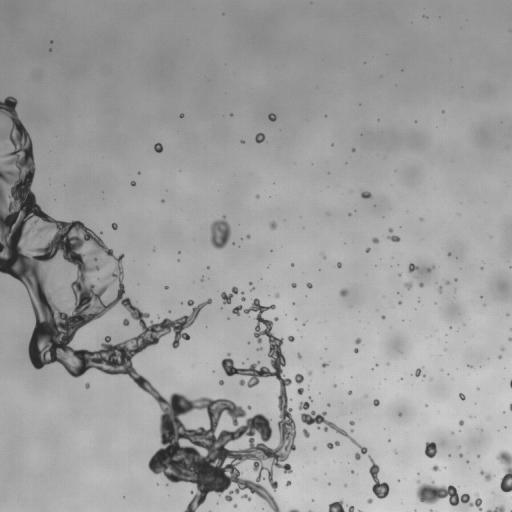droplet: (210, 215, 231, 249), (424, 441, 437, 458), (480, 469, 495, 482), (407, 262, 419, 273), (254, 132, 265, 143), (261, 122, 272, 133), (28, 182, 39, 193), (377, 229, 388, 240), (379, 236, 390, 247), (279, 342, 290, 353), (130, 354, 141, 365), (261, 357, 272, 368), (134, 364, 145, 375), (280, 366, 291, 377), (85, 367, 96, 378), (268, 376, 279, 387), (285, 383, 296, 394), (183, 389, 194, 400), (309, 402, 320, 413), (152, 406, 163, 417), (290, 409, 301, 420), (151, 417, 162, 428), (294, 419, 305, 430), (151, 427, 162, 438), (326, 429, 337, 440), (293, 433, 304, 444), (266, 437, 277, 448), (152, 439, 163, 450), (471, 459, 482, 470), (272, 467, 283, 478), (154, 471, 165, 482), (435, 477, 446, 488), (477, 480, 488, 491), (408, 483, 419, 494), (438, 496, 449, 507), (294, 373, 304, 385), (359, 190, 372, 199), (154, 142, 163, 153), (298, 401, 309, 410), (387, 235, 400, 242), (360, 503, 371, 511), (403, 281, 412, 290), (403, 271, 412, 280), (297, 282, 306, 291), (230, 296, 239, 305), (243, 299, 252, 308), (183, 306, 192, 315), (168, 312, 177, 321), (26, 321, 35, 330), (270, 326, 279, 335), (166, 330, 175, 339), (21, 352, 30, 361), (216, 367, 225, 376), (245, 409, 254, 418), (268, 420, 277, 429), (147, 447, 156, 456), (376, 473, 385, 482), (421, 476, 430, 485), (260, 478, 269, 487), (206, 490, 215, 499), (410, 493, 419, 502), (421, 501, 430, 510), (339, 288, 348, 296), (302, 428, 309, 438), (505, 390, 511, 401), (194, 505, 205, 511), (452, 505, 463, 511), (268, 113, 276, 121), (269, 221, 277, 229), (431, 464, 440, 471), (122, 318, 129, 326), (0, 270, 5, 281), (187, 299, 194, 306), (287, 335, 294, 342), (14, 104, 21, 111), (21, 120, 28, 127), (31, 147, 38, 154), (31, 175, 38, 182), (362, 185, 369, 192), (34, 197, 41, 204), (40, 205, 47, 212), (65, 216, 72, 223), (225, 216, 232, 223), (275, 219, 282, 226), (204, 231, 211, 238), (227, 234, 234, 241), (224, 240, 231, 247), (105, 241, 112, 248), (368, 241, 375, 248), (207, 243, 214, 250), (112, 249, 119, 256), (411, 281, 418, 288), (224, 287, 231, 294), (250, 310, 257, 317), (261, 311, 268, 318), (261, 334, 268, 341), (178, 337, 185, 344), (145, 344, 152, 351), (52, 360, 59, 367), (233, 361, 240, 368), (243, 361, 250, 368), (42, 363, 49, 370), (142, 372, 149, 379), (122, 373, 129, 380), (232, 373, 239, 380), (243, 374, 250, 381), (298, 381, 305, 388), (131, 382, 138, 389), (176, 388, 183, 395), (163, 393, 170, 400), (300, 394, 307, 401), (151, 399, 158, 406), (304, 407, 311, 414), (263, 411, 270, 418), (335, 420, 342, 427), (343, 424, 350, 431), (295, 429, 302, 436), (335, 433, 342, 440), (493, 448, 500, 455), (360, 453, 367, 460), (430, 456, 437, 463), (145, 468, 152, 475), (260, 469, 267, 476), (284, 472, 291, 479), (494, 477, 501, 484), (168, 480, 175, 487), (277, 480, 284, 487), (190, 482, 197, 489), (243, 487, 250, 494), (456, 488, 463, 495), (368, 491, 375, 498), (250, 492, 257, 499), (468, 495, 475, 502), (308, 502, 315, 509), (111, 222, 117, 230), (459, 393, 465, 401), (373, 398, 379, 406), (506, 446, 511, 455), (469, 506, 478, 511), (372, 237, 379, 243), (306, 282, 312, 289), (355, 337, 361, 344), (297, 387, 303, 394), (285, 480, 291, 487), (320, 253, 326, 259), (353, 347, 359, 353), (458, 419, 464, 425), (0, 93, 4, 102), (297, 352, 302, 359), (366, 498, 373, 503), (438, 286, 442, 294), (130, 180, 135, 186), (336, 262, 341, 268), (274, 292, 279, 298), (307, 370, 312, 376), (218, 380, 224, 385), (349, 420, 355, 425), (85, 382, 89, 389), (266, 507, 273, 511), (179, 113, 184, 118), (388, 228, 393, 233), (365, 247, 370, 252), (291, 283, 296, 288), (418, 282, 423, 287), (347, 390, 352, 395), (246, 405, 251, 410), (49, 43, 54, 48), (264, 134, 269, 139), (6, 139, 11, 144), (161, 143, 166, 148), (9, 146, 14, 151), (161, 148, 166, 153), (9, 154, 14, 159), (370, 191, 375, 196), (356, 193, 361, 198), (364, 197, 369, 202), (217, 215, 222, 220), (72, 216, 77, 221), (267, 217, 272, 222), (265, 224, 270, 229), (275, 224, 280, 229), (94, 230, 99, 235), (391, 230, 396, 235), (388, 231, 393, 236), (99, 234, 104, 239), (376, 234, 381, 239), (386, 238, 391, 243), (392, 240, 397, 245), (450, 252, 455, 257), (176, 253, 181, 258), (120, 257, 125, 262), (404, 262, 409, 267), (426, 262, 431, 267), (403, 265, 408, 270), (430, 268, 435, 273), (412, 269, 417, 274), (448, 277, 453, 282), (292, 278, 297, 283), (121, 279, 126, 284), (440, 281, 445, 286), (340, 284, 345, 289), (336, 286, 341, 291), (441, 286, 446, 291), (270, 290, 275, 295), (335, 291, 340, 296), (121, 293, 126, 298), (339, 295, 344, 300), (395, 295, 400, 300), (202, 296, 207, 301), (218, 297, 223, 302), (480, 297, 485, 302), (130, 300, 135, 305), (259, 300, 264, 305), (182, 301, 187, 306), (192, 302, 197, 307), (204, 303, 209, 308), (139, 307, 144, 312), (238, 308, 243, 313), (156, 318, 161, 323), (193, 318, 198, 323), (297, 318, 302, 323), (145, 321, 150, 326), (250, 327, 255, 332), (351, 335, 356, 340), (255, 342, 260, 347), (355, 343, 360, 348), (496, 349, 501, 354), (499, 350, 504, 355), (229, 354, 234, 359), (217, 357, 222, 362), (473, 363, 478, 368), (255, 365, 260, 370), (269, 367, 274, 372), (410, 368, 415, 373), (96, 369, 101, 374), (441, 370, 446, 375), (65, 372, 70, 377), (104, 372, 109, 377), (111, 373, 116, 378), (302, 373, 307, 378), (257, 375, 262, 380), (271, 375, 276, 380), (423, 376, 428, 381), (290, 377, 295, 382), (242, 383, 247, 388), (296, 383, 301, 388), (251, 385, 256, 390), (211, 395, 216, 400), (274, 398, 279, 403), (368, 400, 373, 405), (234, 401, 239, 406), (286, 402, 291, 407), (504, 405, 509, 410), (323, 406, 328, 411), (323, 414, 328, 419), (349, 415, 354, 420), (311, 421, 316, 426), (319, 421, 324, 426), (302, 422, 307, 427), (456, 424, 461, 429), (327, 426, 332, 431), (427, 438, 432, 443), (360, 442, 365, 447), (435, 444, 440, 449), (420, 445, 425, 450), (355, 447, 360, 452), (457, 448, 462, 453), (433, 453, 438, 458), (350, 455, 355, 460), (424, 455, 429, 460), (461, 455, 466, 460), (279, 460, 284, 465), (374, 460, 379, 465), (367, 462, 372, 467), (289, 464, 294, 469), (437, 464, 442, 469), (279, 467, 284, 472), (483, 467, 488, 472), (432, 470, 437, 475), (366, 472, 371, 477), (499, 472, 504, 477), (479, 474, 484, 479), (271, 476, 276, 481), (165, 478, 170, 483), (378, 478, 383, 483), (370, 480, 375, 485), (387, 482, 392, 487), (367, 486, 372, 491), (496, 486, 501, 491), (238, 489, 243, 494), (387, 489, 392, 494), (230, 492, 235, 497), (188, 494, 193, 499), (444, 495, 449, 500), (273, 496, 278, 501), (242, 497, 247, 502), (331, 497, 336, 502), (328, 498, 333, 503), (229, 499, 234, 504), (464, 501, 469, 506), (495, 501, 500, 506), (199, 502, 204, 507), (276, 502, 281, 507), (182, 504, 187, 509), (291, 504, 296, 509), (449, 504, 454, 509), (324, 505, 329, 510), (489, 505, 494, 510), (255, 194, 259, 199), (246, 234, 250, 239), (241, 296, 245, 301), (398, 300, 402, 305), (273, 317, 278, 321), (500, 346, 504, 351), (398, 412, 402, 417), (350, 428, 354, 433), (233, 503, 237, 508), (343, 507, 348, 511), (229, 112, 233, 116), (447, 252, 451, 256), (248, 281, 252, 285), (445, 280, 449, 284), (381, 315, 385, 319), (498, 355, 502, 359), (240, 361, 244, 365), (429, 377, 433, 381), (326, 403, 330, 407), (312, 446, 316, 450), (476, 454, 480, 458), (165, 482, 169, 486), (240, 140, 245, 143), (291, 262, 294, 267), (164, 286, 169, 289), (508, 332, 511, 337), (508, 490, 511, 495), (232, 508, 237, 511), (352, 508, 357, 511), (481, 508, 486, 511), (503, 508, 508, 511), (441, 110, 445, 113), (352, 148, 355, 152), (161, 198, 164, 202), (419, 217, 423, 220), (177, 250, 180, 254), (206, 265, 209, 269), (180, 301, 183, 305), (292, 302, 296, 305), (505, 313, 509, 316), (508, 337, 511, 341), (333, 384, 337, 387), (387, 438, 390, 442), (459, 453, 462, 457), (350, 470, 354, 473), (156, 482, 159, 486), (327, 482, 331, 485), (344, 483, 347, 487), (50, 40, 53, 43), (49, 48, 52, 51), (324, 114, 327, 117), (414, 120, 417, 123), (331, 143, 334, 146), (137, 171, 140, 174), (240, 237, 243, 240), (232, 242, 235, 245), (270, 249, 273, 252), (177, 259, 180, 262), (480, 266, 483, 269), (398, 273, 401, 276), (454, 278, 457, 281), (168, 310, 171, 313), (294, 317, 297, 320), (449, 326, 452, 329), (247, 341, 250, 344), (444, 348, 447, 351), (246, 357, 249, 360), (375, 363, 378, 366), (386, 362, 389, 365), (440, 368, 443, 371), (212, 370, 215, 373), (476, 387, 479, 390), (425, 404, 428, 407), (502, 410, 505, 413), (503, 426, 506, 429), (480, 428, 483, 431), (451, 431, 454, 434), (457, 445, 460, 448), (448, 454, 451, 457), (466, 460, 469, 463), (397, 479, 400, 482), (491, 491, 494, 494), (424, 12, 427, 15), (422, 16, 425, 19), (46, 39, 49, 42), (45, 47, 48, 50), (51, 47, 54, 50), (48, 51, 51, 54), (441, 106, 444, 109), (444, 109, 447, 112), (227, 110, 230, 113), (231, 110, 234, 113), (438, 110, 441, 113), (266, 111, 269, 114), (273, 111, 276, 114), (321, 112, 324, 115), (442, 112, 445, 115), (226, 113, 229, 116), (183, 114, 186, 117), (176, 115, 179, 118), (231, 115, 234, 118), (321, 115, 324, 118), (179, 117, 182, 120), (275, 117, 278, 120), (411, 118, 414, 121), (416, 118, 419, 121), (267, 119, 270, 122), (270, 120, 273, 123), (414, 122, 417, 125), (261, 130, 264, 133), (252, 134, 255, 137), (241, 137, 244, 140), (252, 139, 255, 142), (262, 139, 265, 142), (154, 140, 157, 143), (328, 141, 331, 144), (240, 142, 243, 145), (333, 143, 336, 146), (351, 144, 354, 147), (330, 146, 333, 149), (348, 148, 351, 151), (354, 148, 357, 151), (155, 151, 158, 154), (351, 151, 354, 154), (139, 169, 142, 172), (134, 170, 137, 173), (130, 177, 133, 180), (135, 182, 138, 185), (131, 185, 134, 188), (252, 194, 255, 197), (259, 194, 262, 197), (158, 197, 161, 200), (164, 198, 167, 201), (159, 201, 162, 204), (350, 210, 353, 213), (344, 212, 347, 215), (348, 215, 351, 218), (115, 221, 118, 224), (109, 226, 112, 229), (116, 226, 119, 229), (249, 234, 252, 237), (242, 235, 245, 238), (234, 242, 237, 245), (268, 246, 271, 249), (237, 247, 240, 250), (363, 247, 366, 250), (175, 248, 178, 251), (272, 248, 275, 251), (368, 249, 371, 252), (180, 250, 183, 253), (270, 251, 273, 254), (444, 251, 447, 254), (319, 255, 322, 258), (448, 255, 451, 258), (173, 258, 176, 261), (179, 258, 182, 261), (396, 260, 399, 263), (293, 262, 296, 265), (413, 262, 416, 265), (287, 263, 290, 266), (480, 263, 483, 266), (268, 264, 271, 267), (340, 264, 343, 267), (434, 264, 437, 267), (203, 265, 206, 268), (209, 265, 212, 268), (316, 265, 319, 268), (334, 265, 337, 268), (505, 265, 508, 268), (338, 267, 341, 270), (479, 269, 482, 272), (316, 270, 319, 273), (397, 270, 400, 273), (122, 271, 125, 274), (395, 274, 398, 277), (198, 275, 201, 278), (203, 276, 206, 279), (249, 278, 252, 281), (258, 279, 261, 282), (456, 279, 459, 282), (202, 280, 205, 283), (304, 280, 307, 283), (309, 280, 312, 283), (199, 281, 202, 284), (422, 281, 425, 284), (164, 282, 167, 285), (311, 283, 314, 286), (436, 283, 439, 286), (249, 284, 252, 287), (288, 284, 291, 287), (422, 284, 425, 287), (305, 286, 308, 289), (292, 287, 295, 290), (309, 287, 312, 290), (404, 287, 407, 290), (409, 287, 412, 290), (165, 288, 168, 291), (396, 288, 399, 291), (237, 290, 240, 293), (393, 291, 396, 294), (278, 292, 281, 295), (480, 292, 483, 295), (241, 293, 244, 296), (476, 295, 479, 298), (482, 295, 485, 298), (251, 296, 254, 299), (415, 297, 418, 300), (418, 297, 421, 300), (395, 299, 398, 302), (177, 300, 180, 303), (294, 300, 297, 303), (401, 300, 404, 303), (419, 300, 422, 303), (289, 302, 292, 305), (416, 302, 419, 305), (400, 303, 403, 306), (292, 304, 295, 307), (382, 312, 385, 315), (233, 313, 236, 316), (286, 313, 289, 316), (277, 315, 280, 318), (223, 316, 226, 319), (291, 316, 294, 319), (384, 316, 387, 319), (379, 317, 382, 320), (226, 319, 229, 322), (254, 319, 257, 322), (293, 319, 296, 322), (304, 322, 307, 325), (446, 324, 449, 327), (451, 324, 454, 327), (301, 325, 304, 328), (204, 327, 207, 330), (449, 328, 452, 331), (291, 333, 294, 336), (444, 335, 447, 338), (189, 336, 192, 339), (293, 338, 296, 341), (244, 342, 247, 345), (324, 344, 327, 347), (351, 347, 354, 350), (227, 349, 230, 352), (299, 352, 302, 355), (354, 352, 357, 355), (294, 353, 297, 356), (495, 357, 498, 360), (500, 357, 503, 360), (284, 358, 287, 361), (324, 360, 327, 363), (375, 360, 378, 363), (468, 362, 471, 365), (463, 363, 466, 366), (324, 365, 327, 368), (373, 365, 376, 368), (320, 366, 323, 369), (466, 366, 469, 369), (369, 369, 372, 372), (446, 369, 449, 372), (209, 371, 212, 374), (311, 372, 314, 375), (412, 373, 415, 376), (448, 374, 451, 377), (397, 376, 400, 379), (402, 376, 405, 379), (399, 379, 402, 382), (333, 380, 336, 383), (507, 380, 510, 383), (88, 382, 91, 385), (330, 382, 333, 385), (82, 384, 85, 387), (335, 385, 338, 388), (331, 386, 334, 389), (347, 387, 350, 390), (479, 387, 482, 390), (317, 388, 320, 391), (351, 390, 354, 393), (320, 391, 323, 394), (462, 391, 465, 394), (455, 392, 458, 395), (310, 396, 313, 399), (464, 396, 467, 399), (458, 398, 461, 401), (378, 399, 381, 402), (462, 399, 465, 402), (307, 400, 310, 403), (329, 401, 332, 404), (426, 401, 429, 404), (248, 402, 251, 405), (378, 402, 381, 405), (421, 403, 424, 406), (425, 406, 428, 409), (499, 409, 502, 412), (395, 411, 398, 414), (401, 413, 404, 416), (396, 415, 399, 418), (456, 419, 459, 422), (463, 421, 466, 424), (503, 422, 506, 425), (500, 425, 503, 428), (506, 425, 509, 428), (457, 431, 460, 434), (308, 434, 311, 437), (384, 438, 387, 441), (390, 438, 393, 441), (387, 441, 390, 444), (314, 443, 317, 446), (310, 444, 313, 447), (315, 447, 318, 450), (326, 447, 329, 450), (395, 448, 398, 451), (447, 450, 450, 453), (365, 451, 368, 454), (391, 451, 394, 454), (476, 451, 479, 454), (450, 453, 453, 456), (456, 454, 459, 457), (473, 454, 476, 457), (479, 454, 482, 457), (370, 455, 373, 458), (467, 457, 470, 460), (476, 457, 479, 460), (467, 462, 470, 465), (477, 469, 480, 472), (347, 470, 350, 473), (353, 470, 356, 473), (395, 476, 398, 479), (399, 478, 402, 481), (326, 479, 329, 482), (290, 480, 293, 483), (343, 480, 346, 483), (330, 481, 333, 484), (153, 483, 156, 486), (340, 483, 343, 486), (287, 484, 290, 487), (325, 484, 328, 487), (346, 484, 349, 487), (453, 484, 456, 487), (122, 492, 125, 495), (119, 495, 122, 498), (124, 495, 127, 498), (478, 495, 481, 498), (312, 496, 315, 499), (308, 498, 311, 501), (311, 501, 314, 504), (367, 502, 370, 505), (236, 504, 239, 507), (479, 504, 482, 507), (305, 507, 308, 510), (310, 507, 313, 510), (359, 507, 362, 510), (454, 288, 456, 292), (377, 118, 379, 121), (348, 213, 351, 215), (100, 231, 102, 234), (509, 266, 511, 269), (318, 268, 320, 271), (397, 291, 399, 294), (480, 296, 483, 298), (417, 300, 420, 302), (434, 302, 437, 304), (483, 304, 486, 306), (220, 306, 222, 309), (227, 317, 230, 319), (509, 328, 511, 331), (324, 348, 327, 350), (371, 368, 374, 370), (365, 394, 367, 397), (458, 429, 461, 431), (444, 466, 446, 469), (314, 478, 317, 480), (216, 501, 218, 504), (509, 262, 511, 265), (509, 312, 511, 315), (509, 340, 511, 343), (509, 400, 511, 403), (410, 509, 413, 511), (222, 13, 224, 15), (401, 69, 403, 71), (360, 133, 362, 135), (345, 162, 347, 164), (238, 245, 240, 247), (267, 266, 269, 268), (305, 295, 307, 297), (414, 308, 416, 310), (402, 319, 404, 321), (463, 323, 465, 325), (447, 373, 449, 375), (350, 376, 352, 378), (318, 392, 320, 394), (324, 472, 326, 474), (417, 472, 419, 474), (123, 496, 125, 498), (312, 499, 314, 501), (414, 509, 416, 511), (509, 509, 511, 511), (359, 104, 361, 105), (328, 172, 329, 174), (354, 210, 356, 211), (382, 216, 384, 217), (375, 264, 376, 266), (397, 264, 399, 265), (248, 316, 250, 317), (205, 326, 207, 327), (457, 330, 458, 332), (445, 334, 447, 335), (300, 336, 302, 337), (410, 374, 412, 375), (421, 380, 423, 381), (350, 412, 352, 413), (273, 182, 274, 183), (102, 191, 103, 192), (374, 205, 375, 206), (261, 278, 262, 279), (285, 314, 286, 315)
ligament: (301, 410, 367, 460), (368, 454, 389, 499), (496, 450, 511, 493), (328, 499, 354, 511), (485, 505, 505, 511), (326, 440, 339, 449), (240, 493, 251, 501), (426, 264, 435, 273), (321, 361, 330, 367), (287, 508, 300, 511), (308, 395, 313, 402), (302, 320, 307, 326), (200, 275, 204, 282), (422, 14, 428, 18), (467, 364, 473, 368), (469, 415, 476, 418), (398, 377, 403, 381), (394, 448, 397, 454), (509, 403, 511, 411), (429, 509, 437, 511), (306, 509, 313, 511), (157, 314, 159, 320), (357, 509, 363, 511), (510, 379, 511, 388), (153, 247, 155, 251), (208, 510, 211, 511), (497, 430, 499, 431)
